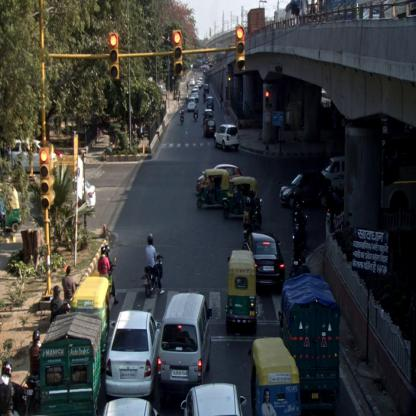car: (157, 292, 214, 387), (105, 308, 162, 398), (242, 227, 286, 292), (178, 385, 245, 415), (278, 174, 330, 205), (215, 125, 240, 152), (204, 119, 215, 138), (187, 97, 197, 111), (206, 96, 214, 112)
motorcycle: (141, 233, 164, 296), (25, 326, 41, 411), (98, 247, 116, 304), (291, 228, 305, 274), (192, 106, 198, 124), (180, 106, 184, 126)
truck: (282, 272, 340, 408), (42, 313, 102, 415)
